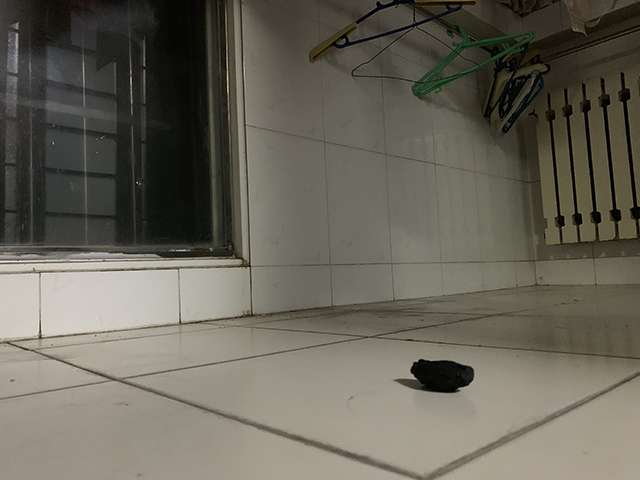feces: (409, 357, 476, 392)
